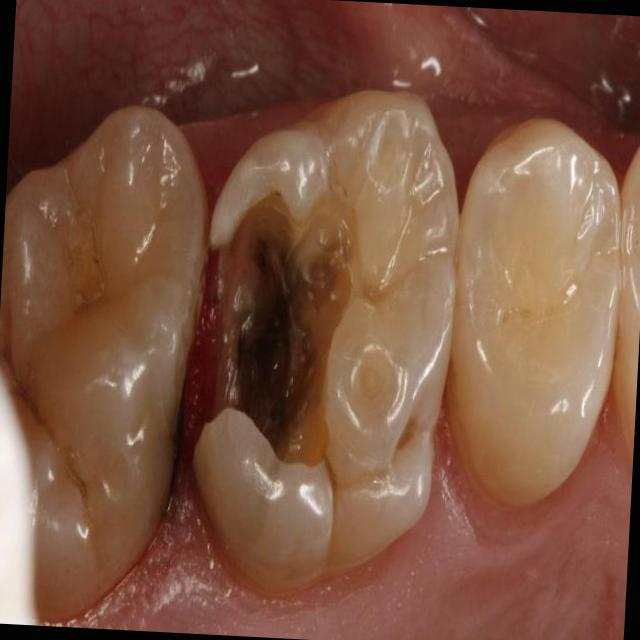caries: (189, 77, 467, 600), (0, 96, 212, 620)
